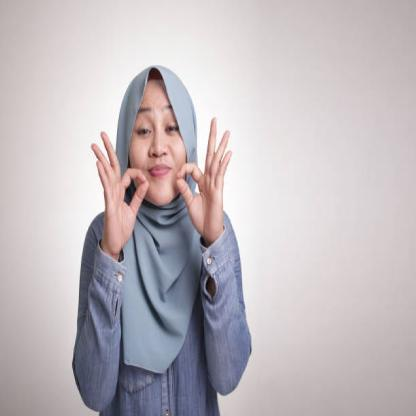ok: (89, 126, 150, 252), (174, 114, 232, 242)
